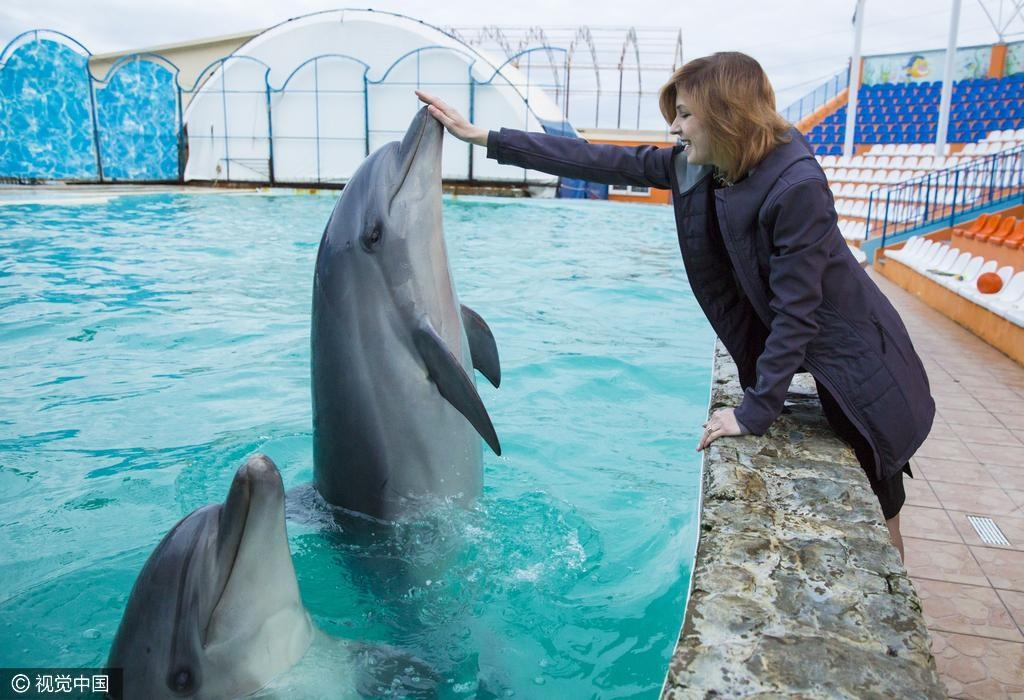fish: (307, 96, 501, 529), (91, 456, 407, 700)
person: (417, 44, 931, 569)
